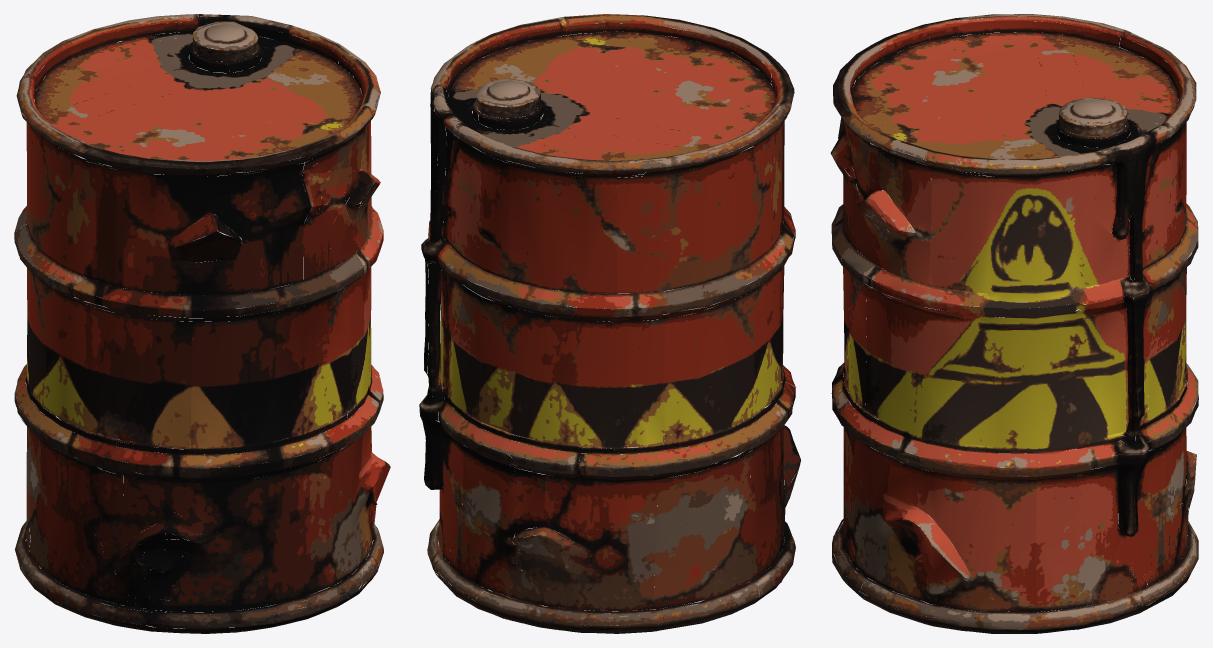
File: barrel.glb
3 renders of one model, left to right at view 1: azimuth 30°, elevation 25°; view 2: azimuth 150°, elevation 25°; view 3: azimuth 270°, elevation 25°, orthographic.
Parts seen in each view (by area): view 1: barrel; view 2: barrel; view 3: barrel.
Boxes of the visible parts, x1,y1,x2,y2 form: barrel: [14, 14, 390, 633]; barrel: [419, 14, 800, 633]; barrel: [830, 14, 1198, 633].
Size of the model in its own units: 0.7775 by 1.13 by 0.7814.
1 material, 1 textured.
